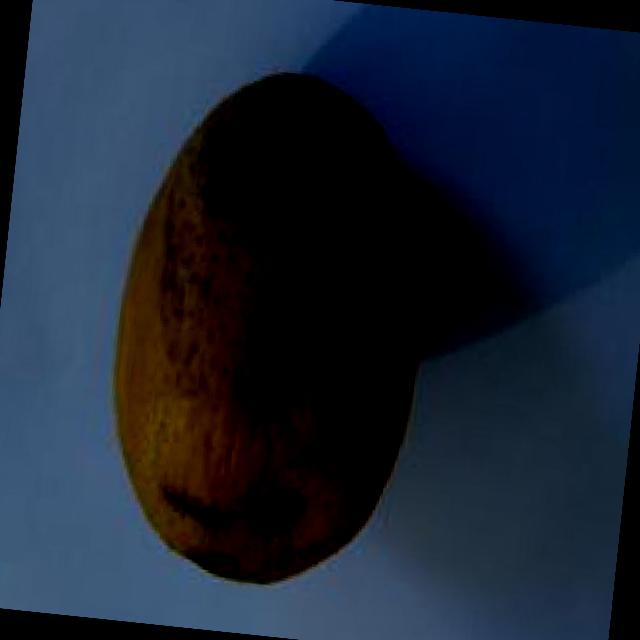Orange: (90, 57, 444, 603)
